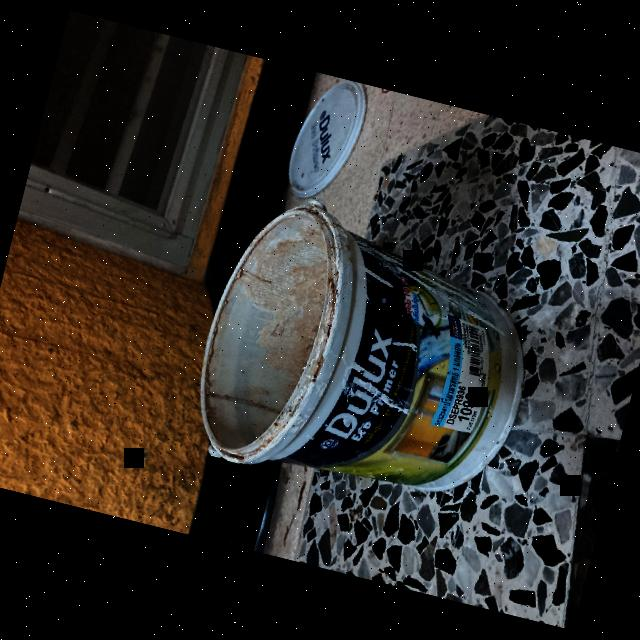paint_bucket: (178, 184, 552, 526)
